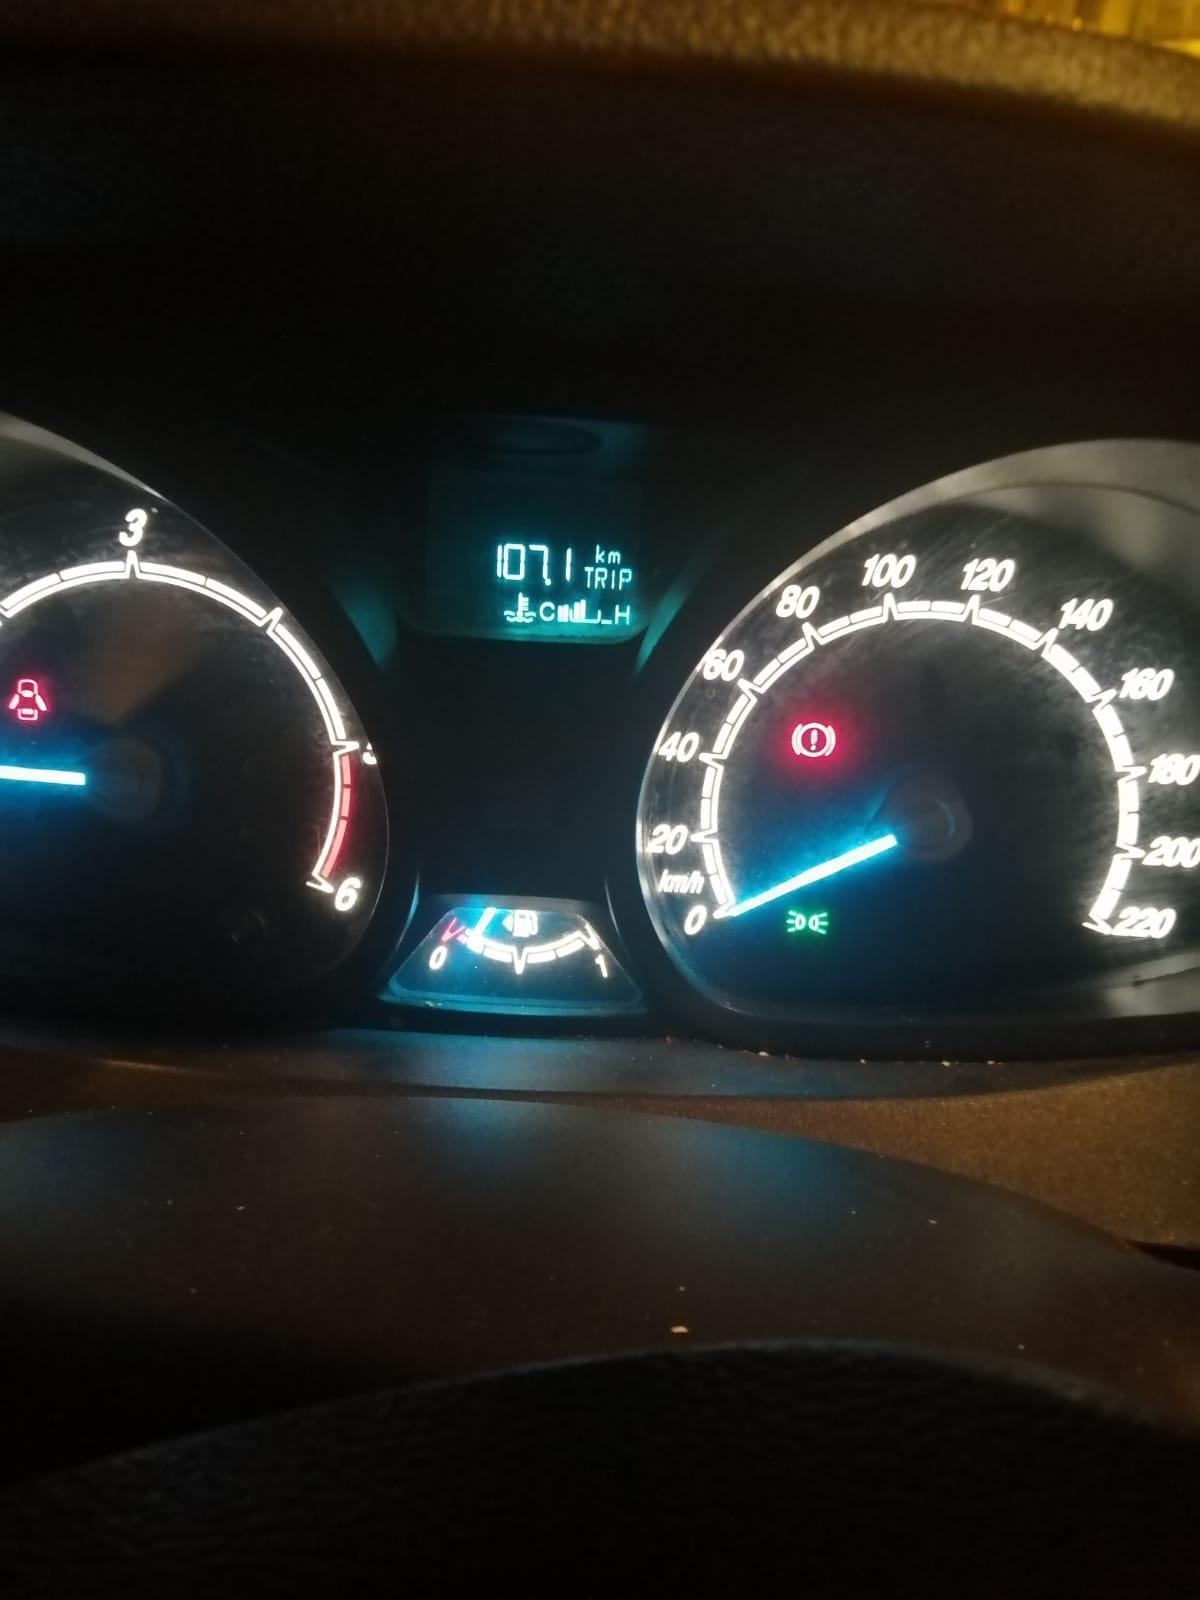,: (545, 577, 555, 587)
0: (502, 540, 524, 583)
1: (563, 544, 574, 585), (494, 543, 500, 582)
7: (528, 540, 550, 580)
X: (619, 567, 634, 593), (613, 602, 630, 624), (539, 598, 555, 622), (594, 567, 606, 590), (582, 564, 592, 587), (608, 549, 621, 564), (595, 542, 605, 562), (610, 568, 615, 590)
odometer: (456, 518, 652, 645)
